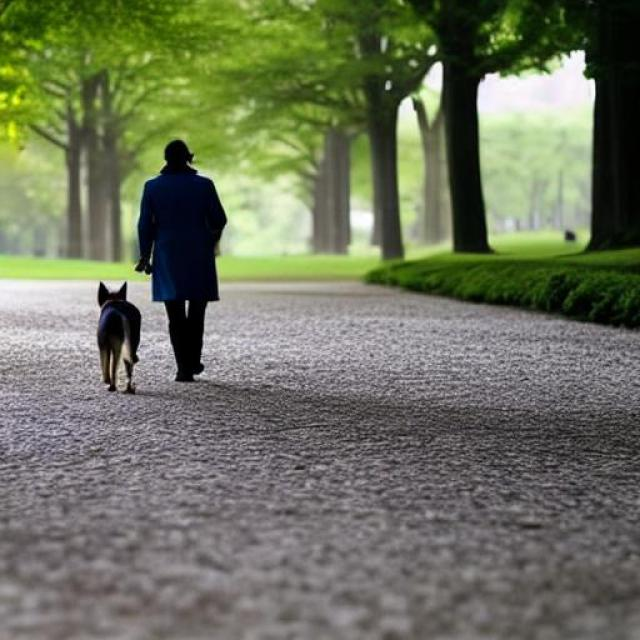Unleashed_Dog: (96, 251, 218, 395)
